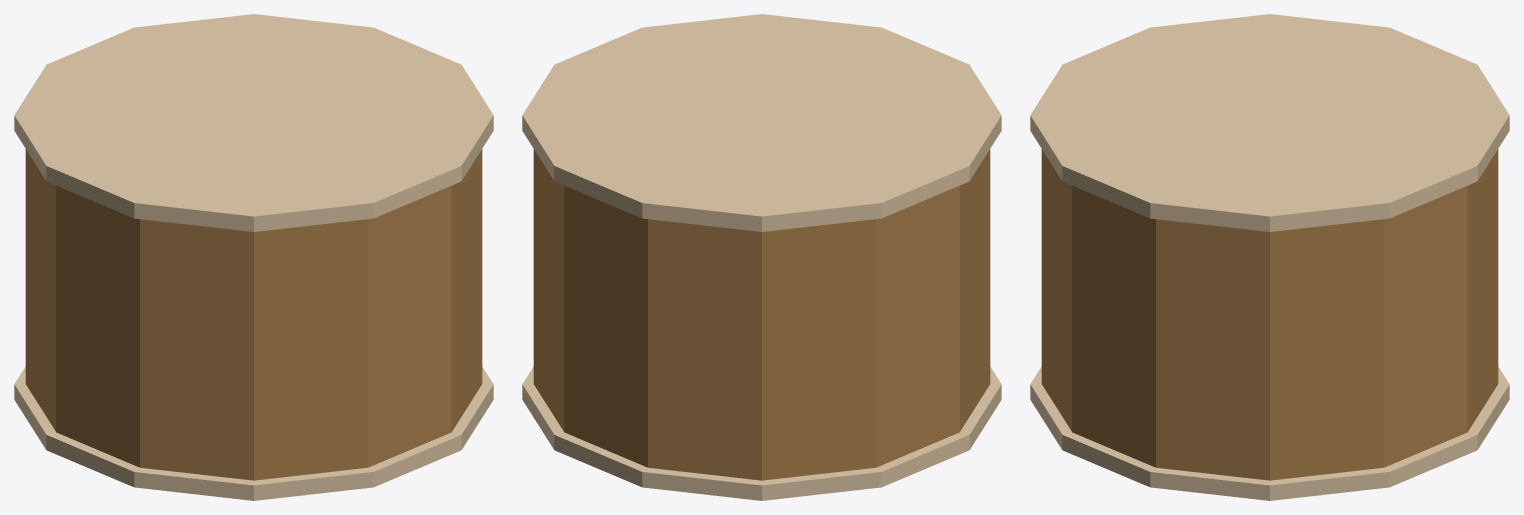
Rendered from tribal_drum.dae.
The picture shows the model from 3 angles, left to right: view 1: azimuth 30°, elevation 25°; view 2: azimuth 150°, elevation 25°; view 3: azimuth 270°, elevation 25°; orthographic projection.
Parts seen in each view (by area): view 1: Cylinder, Cylinder.001, Cylinder.002; view 2: Cylinder, Cylinder.001, Cylinder.002; view 3: Cylinder, Cylinder.001, Cylinder.002.
Part boxes in pixels (left/top/right/bottom): Cylinder: left=25, top=149, right=482, bottom=480; Cylinder.001: left=14, top=14, right=493, bottom=231; Cylinder.002: left=14, top=367, right=493, bottom=500; Cylinder: left=533, top=149, right=990, bottom=480; Cylinder.001: left=522, top=14, right=1001, bottom=231; Cylinder.002: left=522, top=367, right=1001, bottom=500; Cylinder: left=1041, top=149, right=1498, bottom=480; Cylinder.001: left=1030, top=14, right=1509, bottom=231; Cylinder.002: left=1030, top=367, right=1509, bottom=500.
Size of the model in its own units: 84 by 84 by 55.
